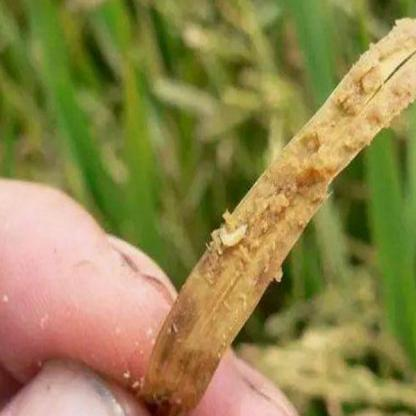whorl-maggot: (218, 223, 252, 250)
